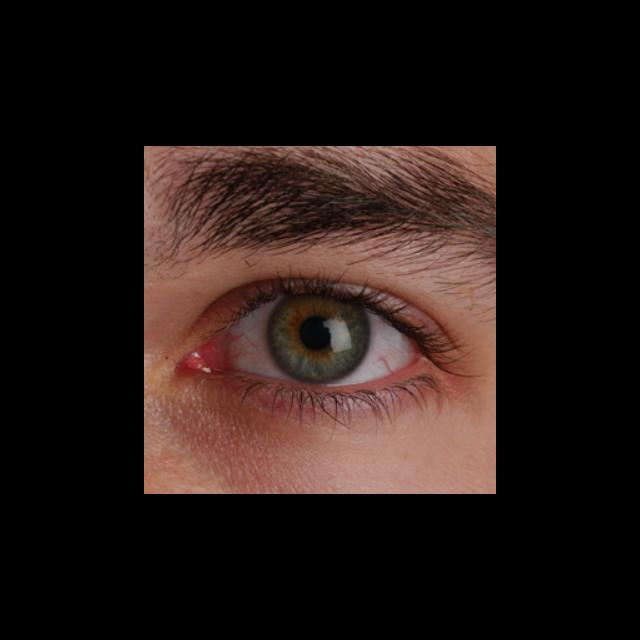eye: (230, 292, 420, 389)
iris: (268, 296, 371, 383)
